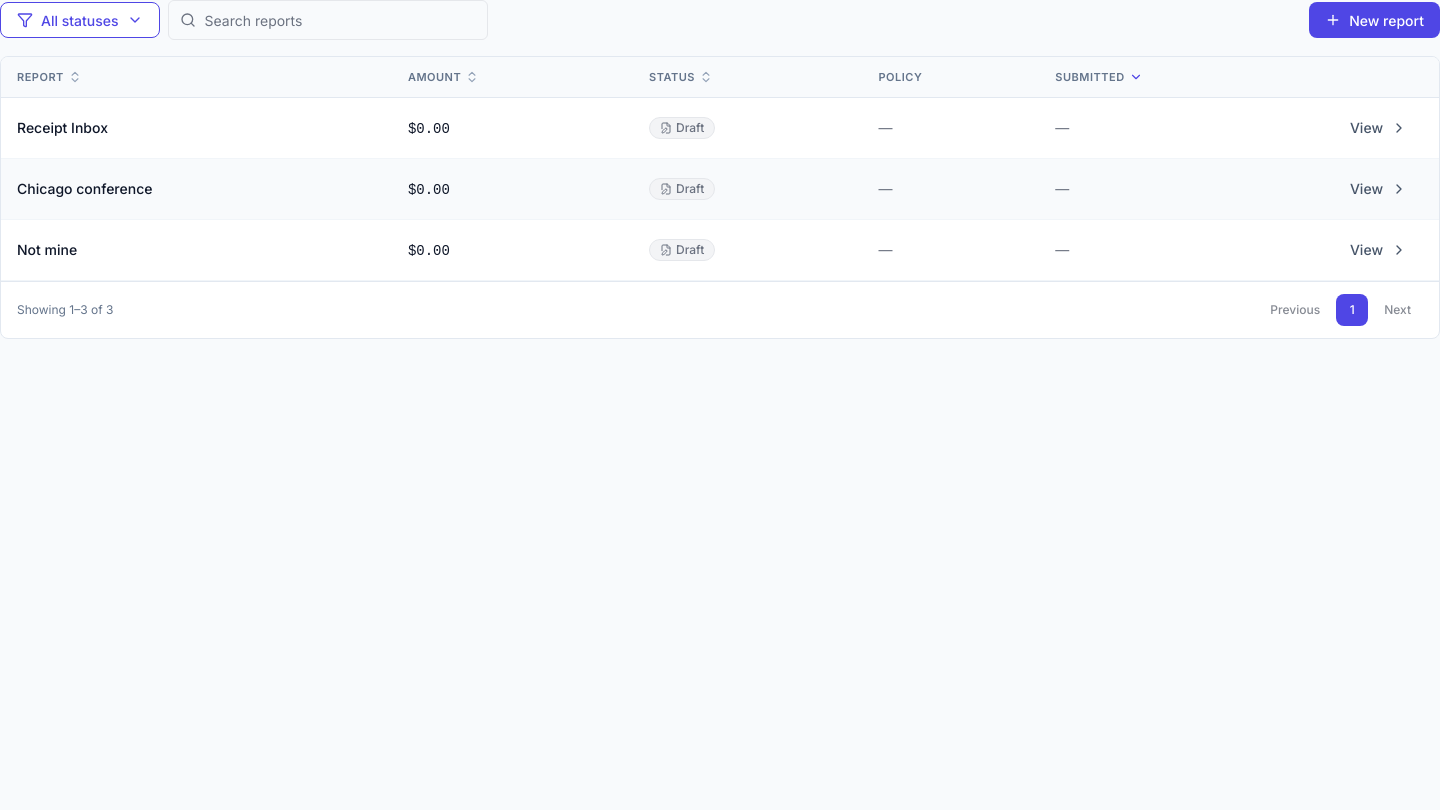
it: report list — New report › a blank title is rejected without a request
The width and height of the screenshot is (1440, 810).
What coordinates should you click on to do the following:
click the button "New report"
I would click on:
 (1375, 20)
Its box is top-left (1309, 2), bottom-right (1439, 38).
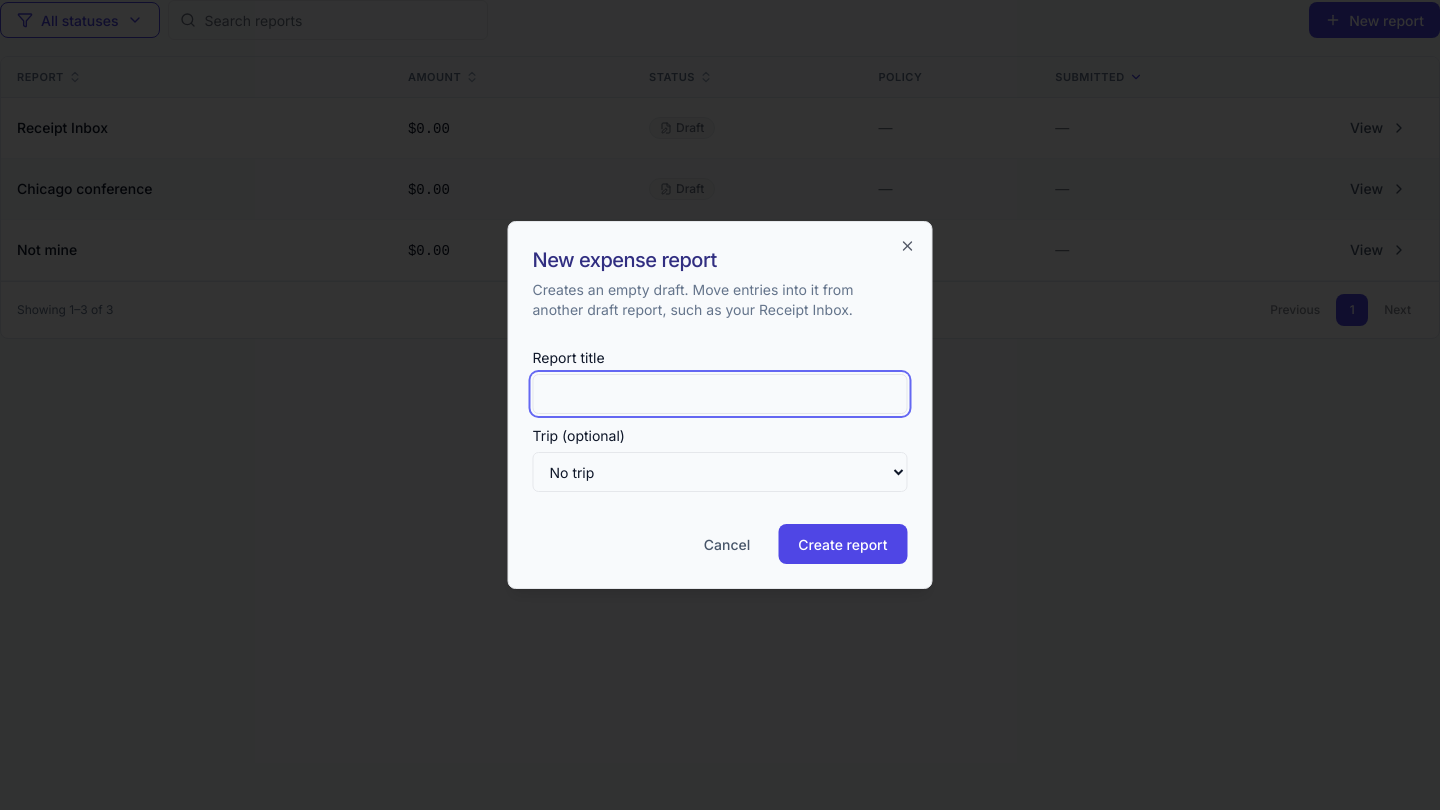
What coordinates should you click on to do the following:
click the button "Create report"
I would click on:
 (843, 544)
Its box is top-left (778, 524), bottom-right (908, 564).
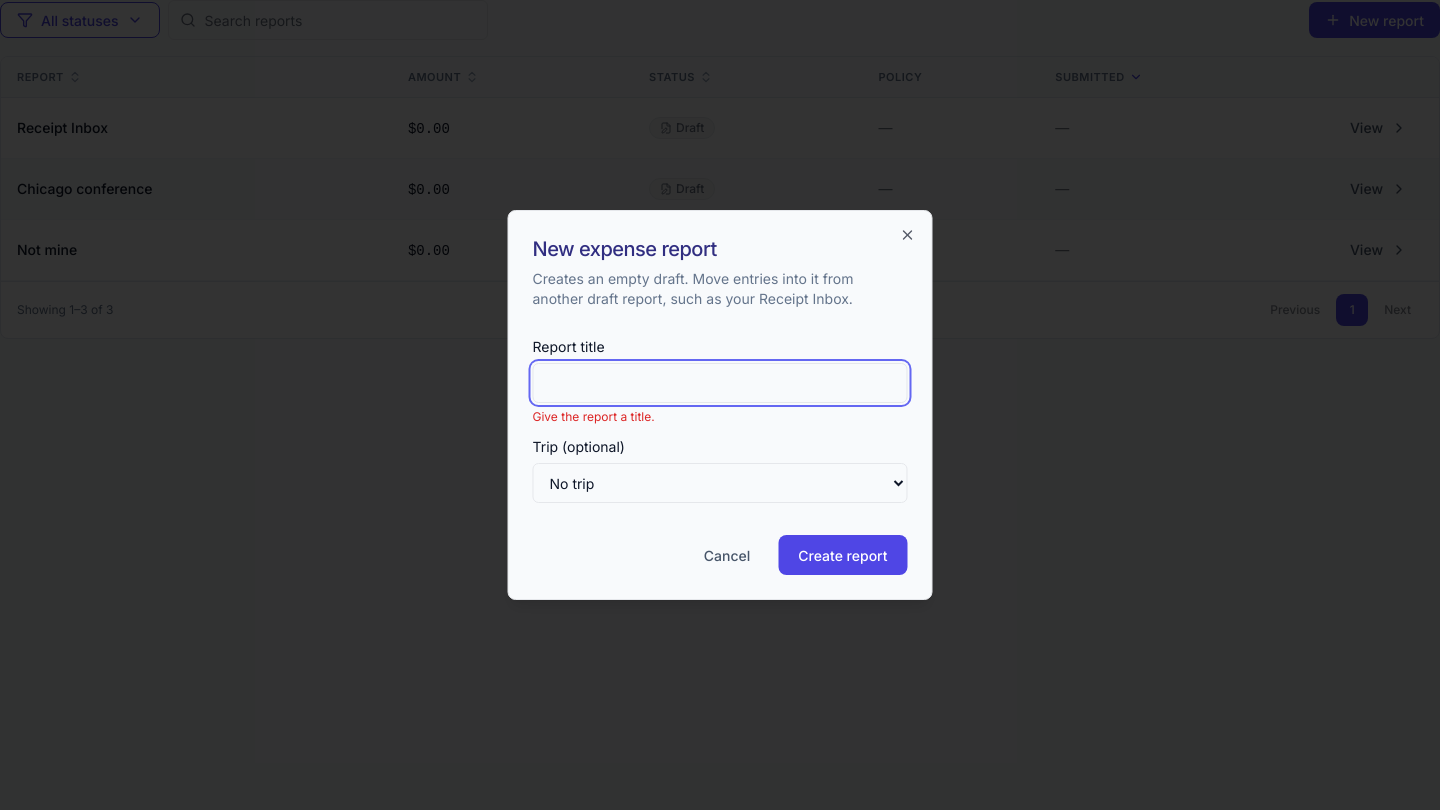
Result: the message shows "title" at top-left (532, 409), bottom-right (655, 424)
